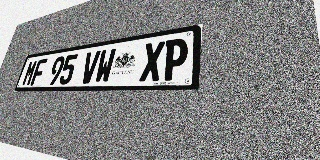5: (58, 54, 78, 85)
9: (47, 56, 66, 85)
F: (30, 58, 48, 86)
M: (21, 60, 38, 86)
P: (161, 37, 189, 81)
V: (79, 50, 101, 84)
W: (94, 48, 116, 83)
X: (139, 41, 165, 82)
